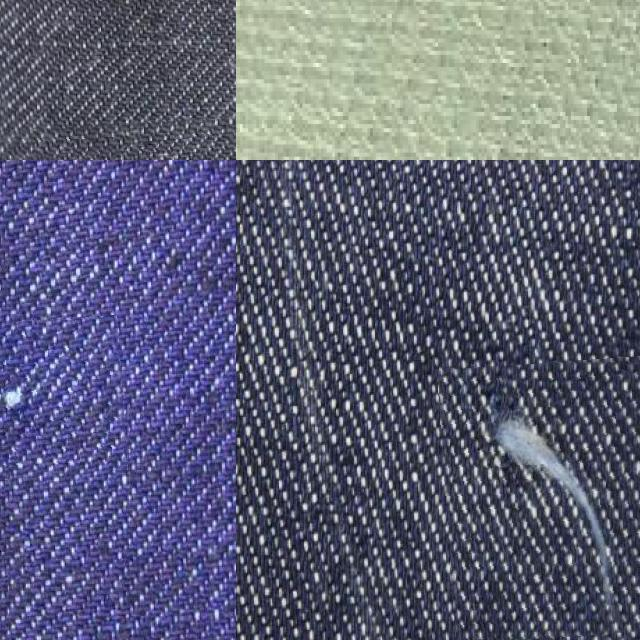stains: (441, 358, 640, 640), (0, 319, 125, 481), (0, 119, 236, 160)
